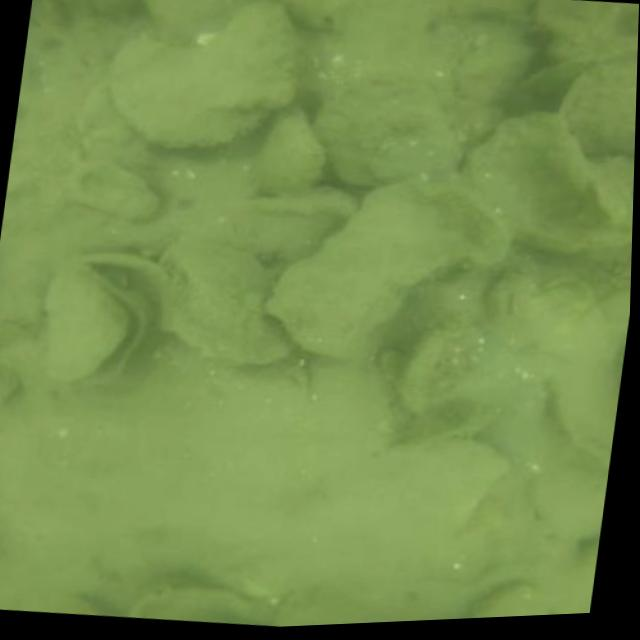Oyster-Indeterminate: (272, 184, 478, 358), (109, 0, 298, 147), (467, 100, 634, 255), (162, 240, 291, 364), (312, 75, 454, 181), (560, 57, 637, 153), (80, 84, 166, 169), (406, 322, 485, 411), (60, 156, 162, 223), (458, 27, 531, 101), (256, 111, 323, 190), (383, 401, 492, 447), (466, 583, 551, 618), (143, 0, 225, 35), (272, 588, 340, 626)
Oyster-Open: (38, 260, 146, 386)
